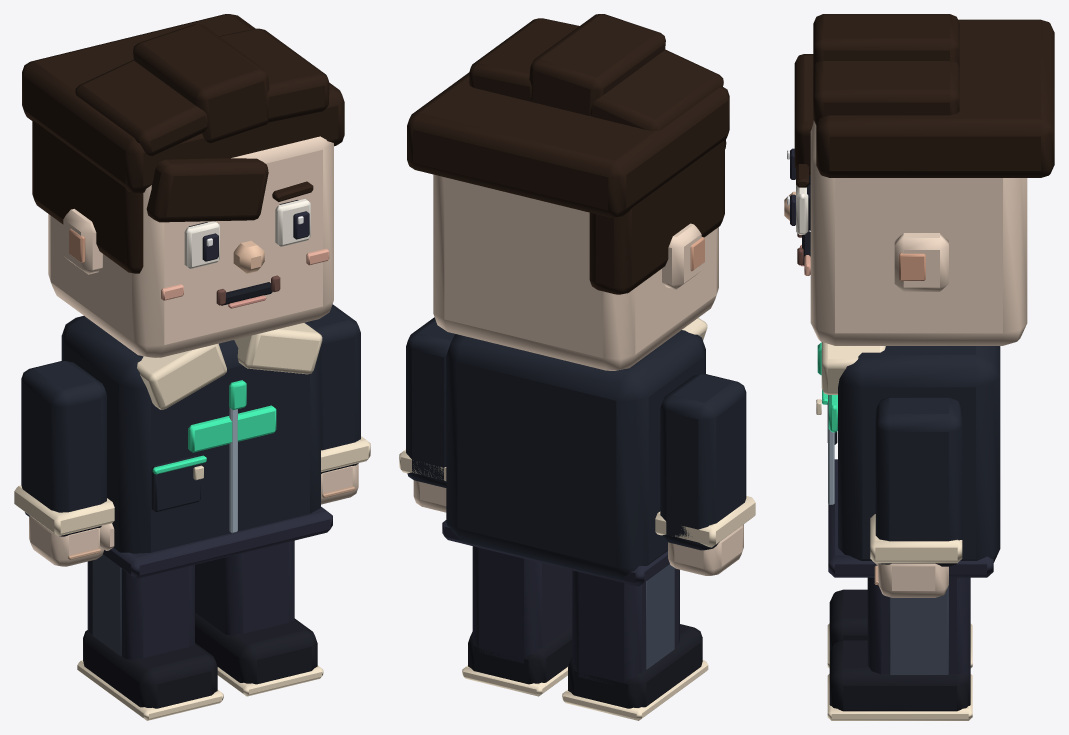
The model's file is alex.glb.
3 views of the same model, side by side, from view 1: azimuth 30°, elevation 25°; view 2: azimuth 150°, elevation 25°; view 3: azimuth 270°, elevation 25° (orthographic). The views are drawn at different scales.
Visible parts, largest first — view 1: Jacket, Face, Hair, Arm_L_sleeve, HairTuft.001, HairSide, Leg_R_trouser, Fringe, HairTuft, Leg_L_trouser, Leg_L_shoe, Leg_R_shoe (+20 smaller); view 2: Jacket, Face, Hair, Arm_L_sleeve, HairSide, Leg_R_trouser, HairTuft.001, Leg_L_trouser, Arm_R_sleeve, HairTuft, Leg_L_shoe, HairTuft.002 (+9 smaller); view 3: Face, Hair, Jacket, Arm_R_sleeve, HairTuft.002, HairTuft.001, Leg_R_shoe, TrouserSeam.001, Leg_R_trouser, JacketHem, Ear.001, Arm_R_hand (+8 smaller).
Part boxes in pixels (x1,y1,x2,y2): Jacket: (61,316,320,553); Face: (48,136,333,357); Hair: (22,14,344,193); Arm_L_sleeve: (21,361,106,536); HairTuft.001: (133,24,269,143); HairSide: (32,120,143,273); Leg_R_trouser: (195,540,294,635); Fringe: (146,158,268,222); HairTuft: (75,60,208,156); Leg_L_trouser: (87,560,194,659); Leg_L_shoe: (83,630,217,708); Leg_R_shoe: (195,612,317,684); Jacket: (446,330,705,579); Face: (433,174,718,370); Hair: (407,72,729,217); Arm_L_sleeve: (660,374,746,550); HairSide: (589,141,724,294); Leg_R_trouser: (472,546,572,663); HairTuft.001: (529,14,665,115); Leg_L_trouser: (572,568,679,685); Arm_R_sleeve: (406,317,455,487); HairTuft: (590,49,723,130); Leg_L_shoe: (568,624,702,708); HairTuft.002: (469,18,579,101); Face: (810,120,1027,345); Hair: (816,19,1054,177); Jacket: (838,346,1000,562); Arm_R_sleeve: (875,397,962,566); HairTuft.002: (813,61,959,124); HairTuft.001: (813,15,959,67); Leg_R_shoe: (829,640,970,711); TrouserSeam.001: (889,586,948,674); Leg_R_trouser: (867,577,970,677); JacketHem: (828,459,993,577); Ear.001: (894,233,948,291); Arm_R_hand: (878,563,948,597).
Bounding box in the file's own units: 0.697 × 1.33 × 0.4985.
